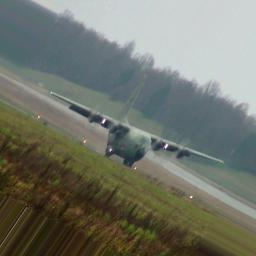Airplane: (50, 88, 225, 172)
